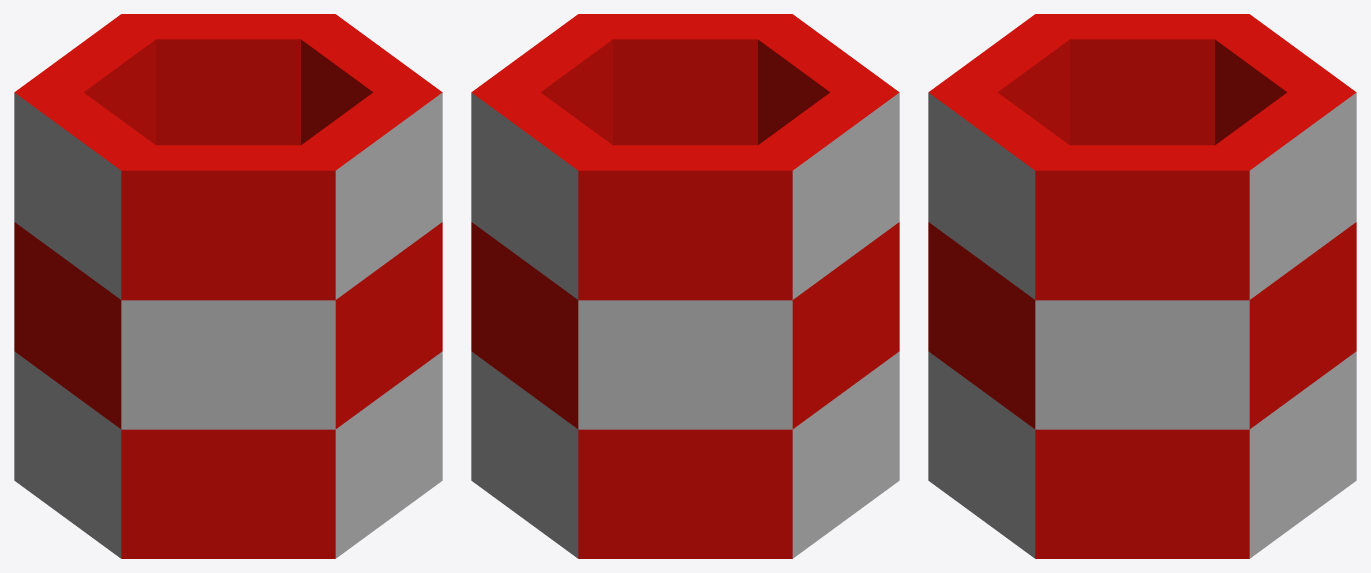
File: kubek.fbx
3 renders of one model, left to right at view 1: azimuth 30°, elevation 25°; view 2: azimuth 150°, elevation 25°; view 3: azimuth 270°, elevation 25°, orthographic.
Visible parts, largest first — view 1: Cylinder; view 2: Cylinder; view 3: Cylinder.
Boxes of the visible parts, x1,y1,x2,y2 form: Cylinder: (14, 14, 442, 558); Cylinder: (471, 14, 899, 558); Cylinder: (928, 14, 1356, 558).
Size of the model in its own units: 173 by 200 by 200.
